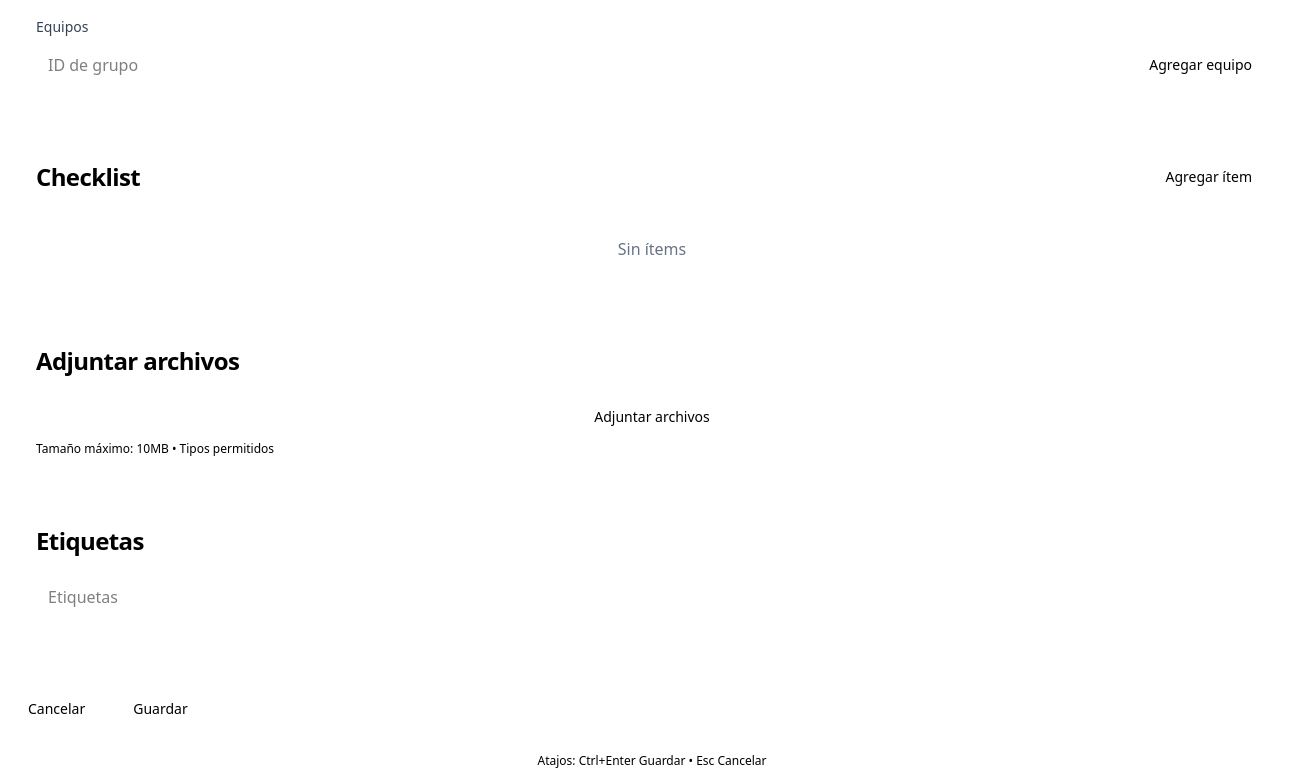
TaskForm Component › handles tag creation — tag input exists
(page scrolled)
In the field with placeholder "Etiquetas": {"x": 652, "y": 597} [36, 577, 1268, 617], type "custom-tag"
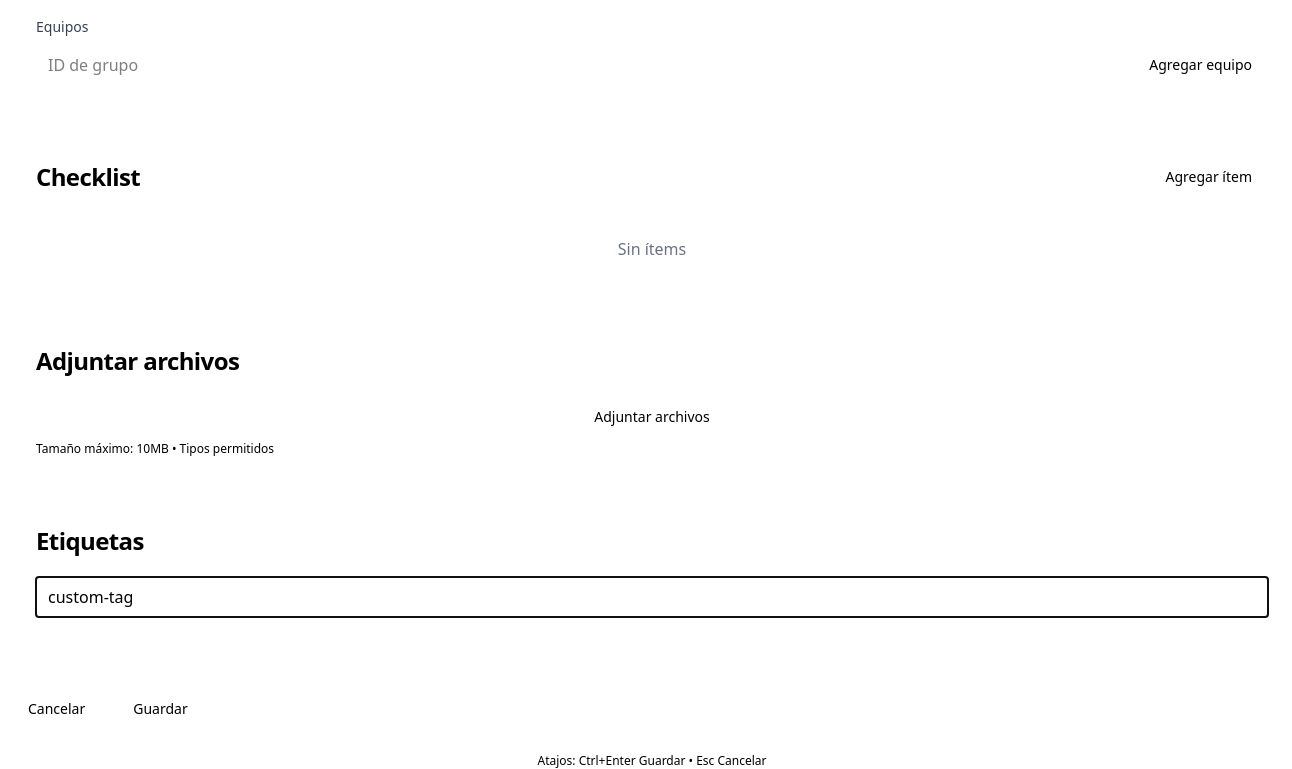
Press Enter
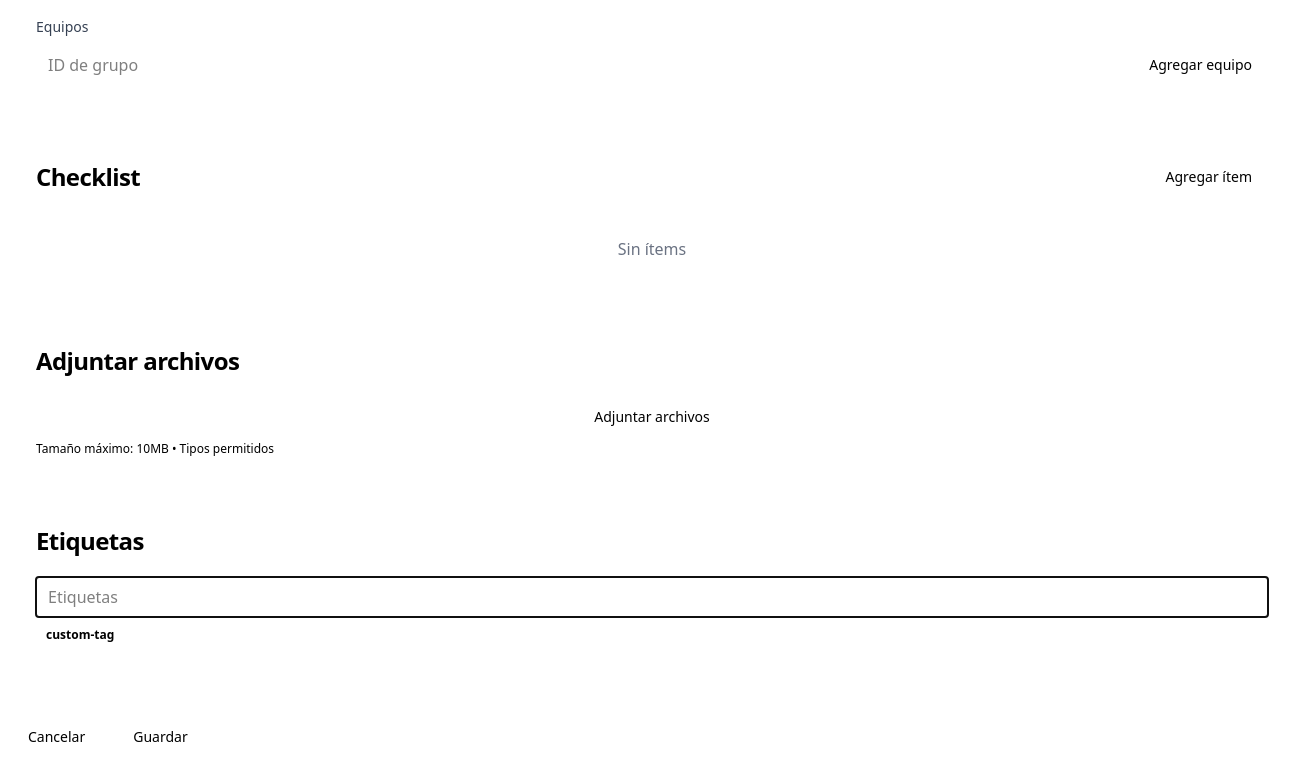
Expected: the text "custom-tag" is shown, [46, 626, 138, 643]
